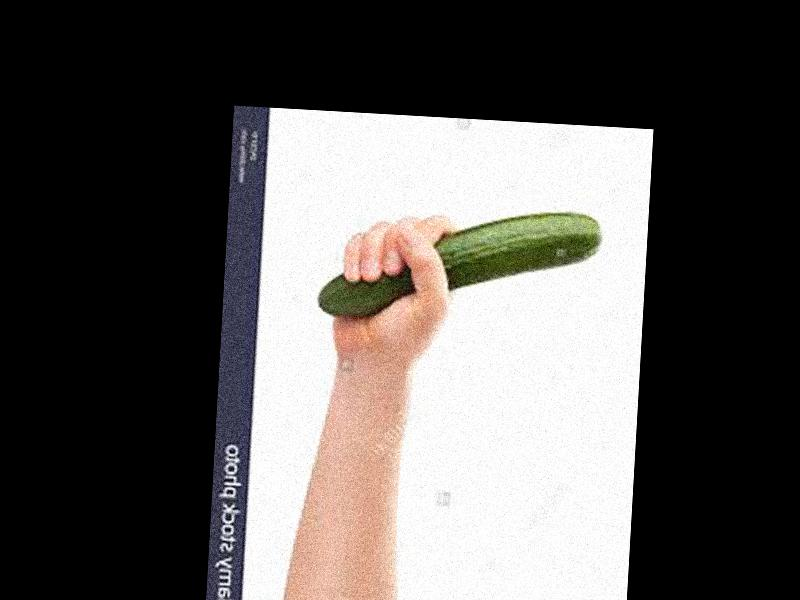Cucumber: (318, 197, 602, 329)
